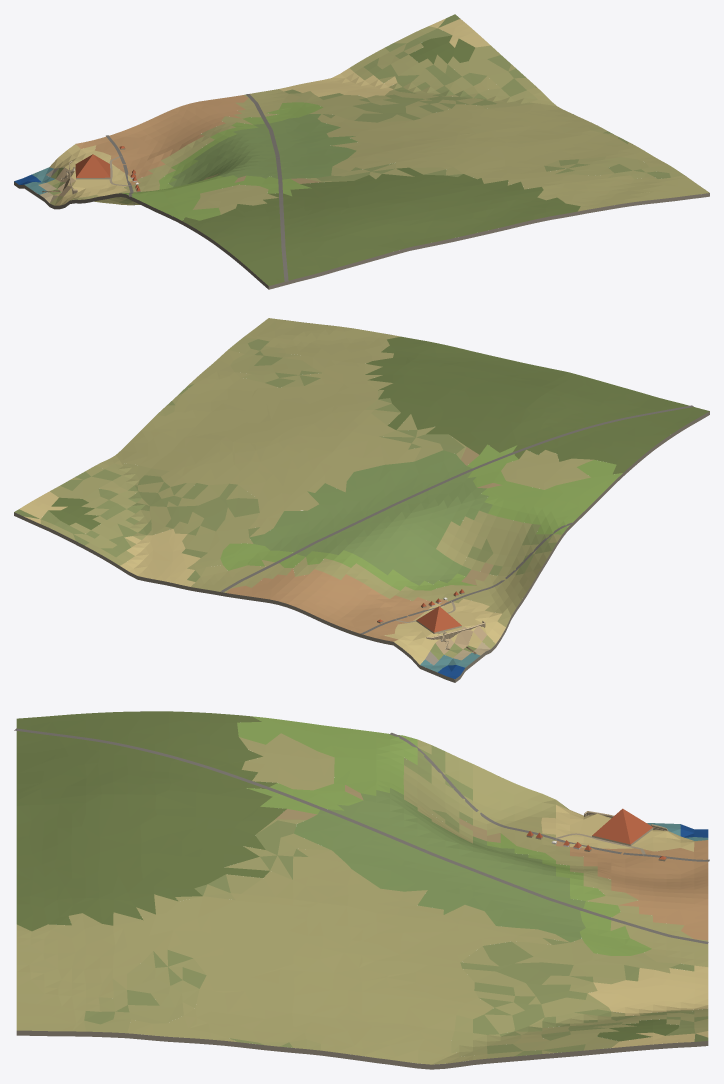
Rendered from parca_+0_-7-uzak.glb.
3 views of the same model, one above another, from view 1: azimuth 30°, elevation 25°; view 2: azimuth 150°, elevation 25°; view 3: azimuth 270°, elevation 25° (orthographic). The views are drawn at different scales.
Visible parts, largest first — view 1: parca_+0_-7_arazi_uzak, parca_+0_-7_yollar_uzak, parca_+0_-7_yapilar_uzak; view 2: parca_+0_-7_arazi_uzak, parca_+0_-7_yollar_uzak, parca_+0_-7_yapilar_uzak; view 3: parca_+0_-7_arazi_uzak, parca_+0_-7_yollar_uzak, parca_+0_-7_yapilar_uzak.
Part boxes in pixels (x1,y1,x2,y2): parca_+0_-7_arazi_uzak: (14, 14, 709, 289); parca_+0_-7_yollar_uzak: (106, 94, 288, 281); parca_+0_-7_yapilar_uzak: (75, 146, 140, 192); parca_+0_-7_arazi_uzak: (14, 318, 709, 682); parca_+0_-7_yollar_uzak: (220, 405, 693, 634); parca_+0_-7_yapilar_uzak: (377, 589, 464, 633); parca_+0_-7_arazi_uzak: (16, 711, 708, 1069); parca_+0_-7_yollar_uzak: (14, 728, 709, 943); parca_+0_-7_yapilar_uzak: (526, 808, 666, 861).
Size of the model in its own units: 1004 by 204 by 1006.
